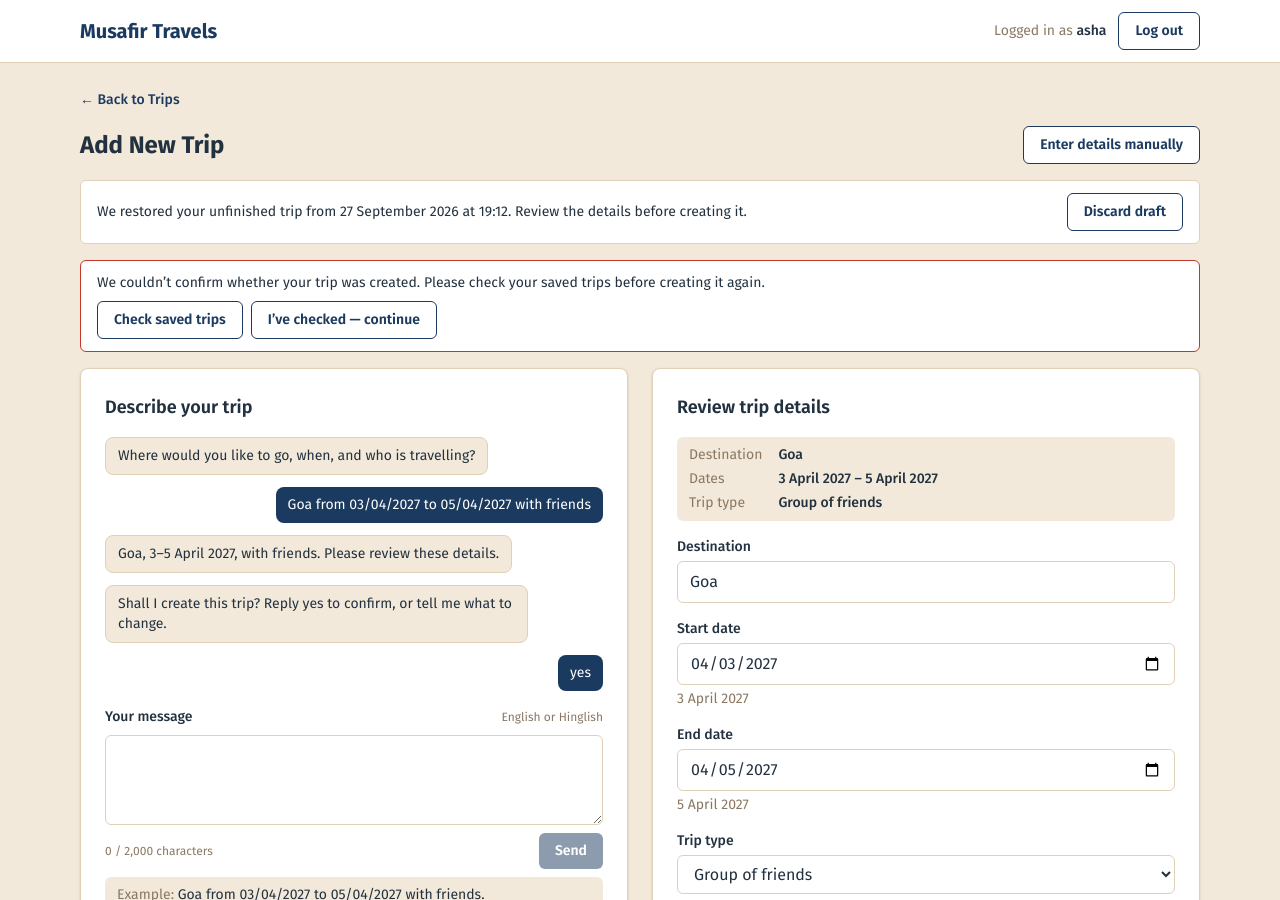
it: TripChat — uncertain creation outcome › restores an interrupted creation as an uncertain outcome without resubmitting
This screenshot has width=1280, height=900.
Check: the text "We couldn’t confirm whether your trip was created" is shown, box left=97, top=274, right=765, bottom=291
What coordinates should you click on to do the following:
click the button "I’ve checked — continue"
I would click on:
 (344, 320)
Its box is left=251, top=301, right=437, bottom=339.
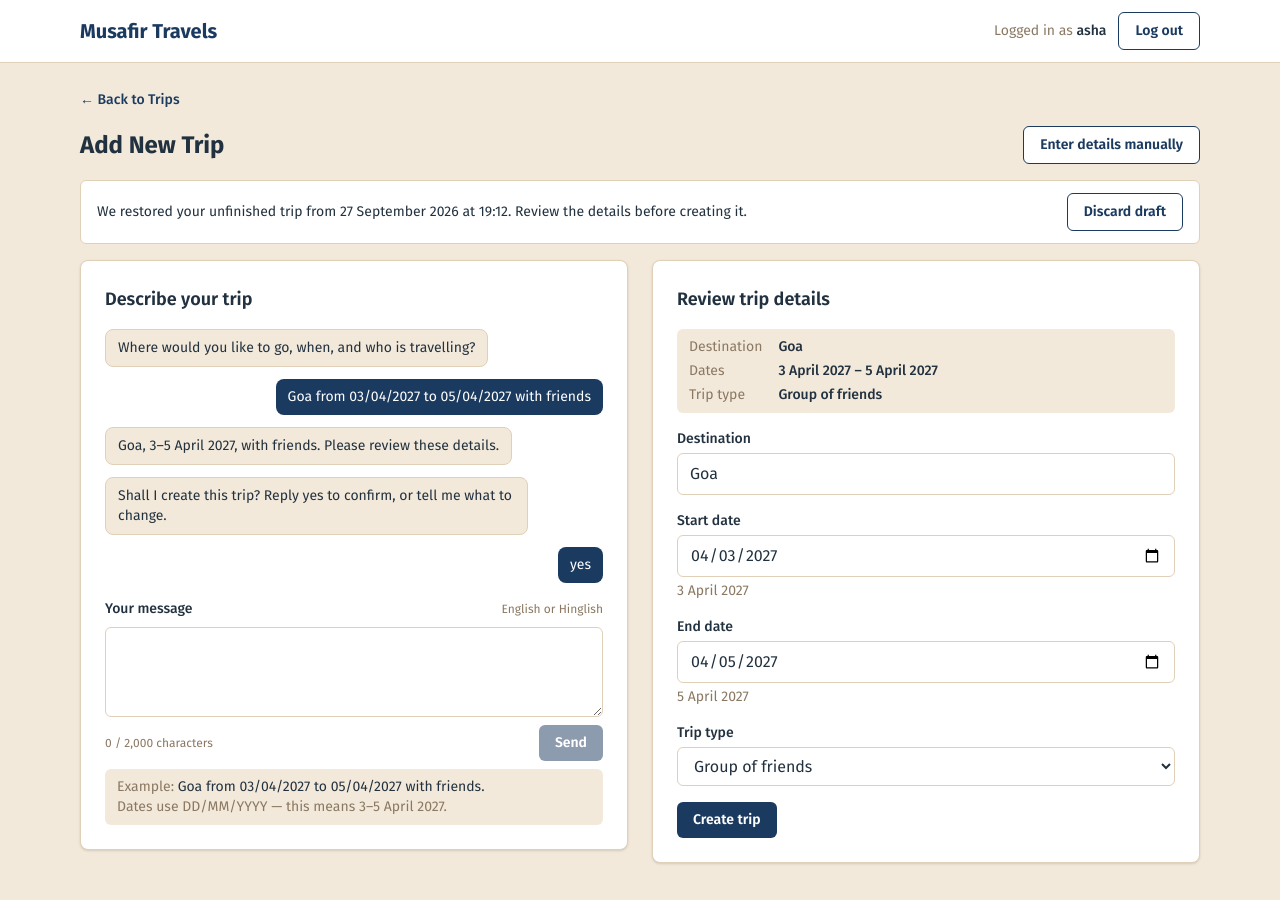
Check: the button "Create trip" is enabled, box left=677, top=802, right=777, bottom=838
